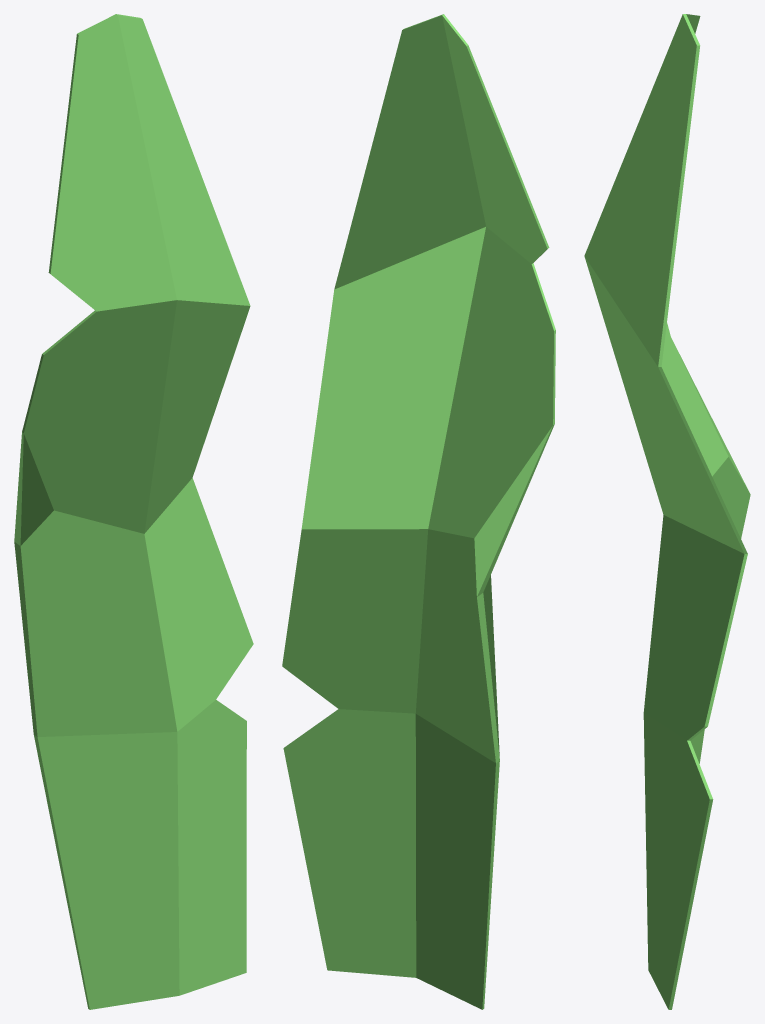
File: Grass_3.fbx
3 views of the same model, side by side, from view 1: azimuth 30°, elevation 25°; view 2: azimuth 150°, elevation 25°; view 3: azimuth 270°, elevation 25° (orthographic). The views are drawn at different scales.
Visible parts, largest first — view 1: Grass_3; view 2: Grass_3; view 3: Grass_3.
Part boxes in pixels (x1,y1,x2,y2): Grass_3: (14, 14, 253, 1009); Grass_3: (282, 14, 555, 1009); Grass_3: (584, 14, 750, 1009).
Bounding box in the file's own units: 44.03 × 166 × 26.59.
